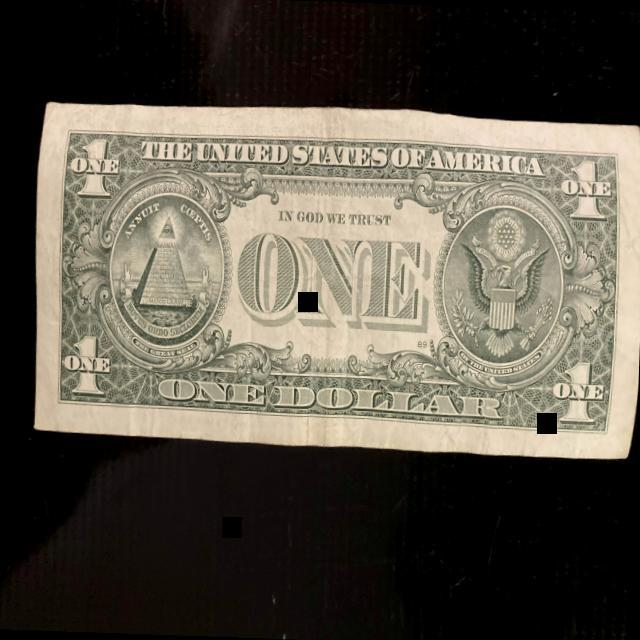one: (23, 94, 640, 461)
